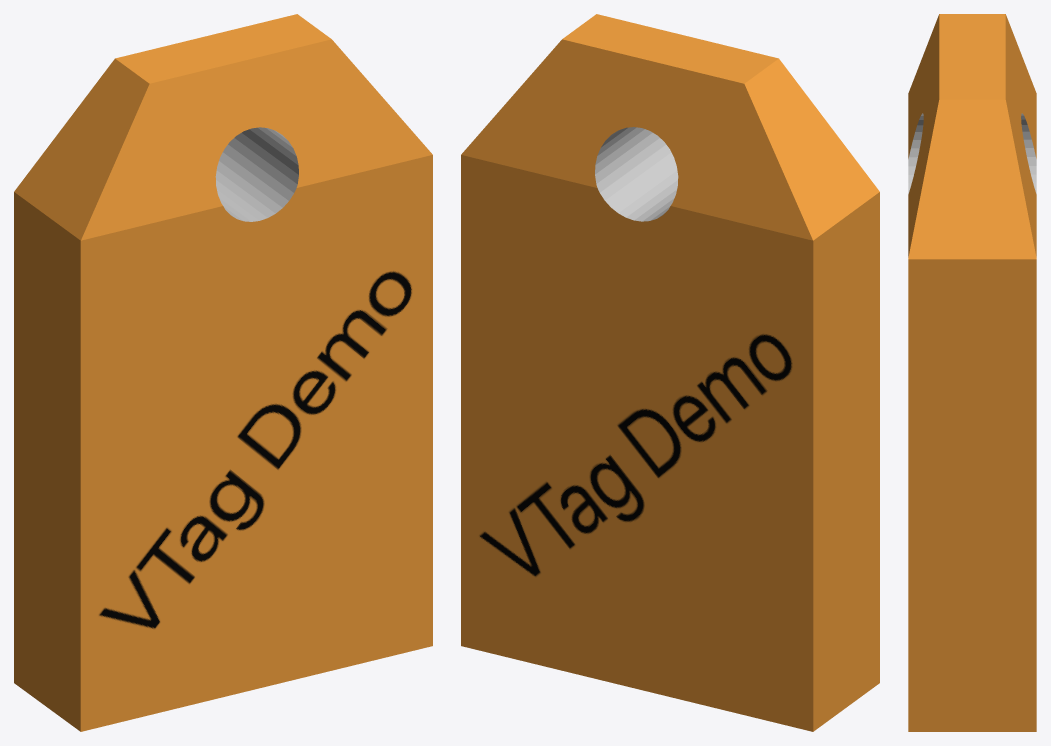
3 renders of one model, left to right at view 1: azimuth 30°, elevation 25°; view 2: azimuth 150°, elevation 25°; view 3: azimuth 270°, elevation 25°, orthographic. The views are drawn at different scales.
Visible parts, largest first — view 1: ARTag; view 2: ARTag; view 3: ARTag.
Boxes of the visible parts, bbox=[...] form: ARTag: bbox=[14, 14, 432, 731]; ARTag: bbox=[461, 14, 879, 731]; ARTag: bbox=[908, 14, 1036, 731].
Bounding box in the file's own units: 1.22 × 0.4009 × 2.04.
2 materials, 1 textured.
